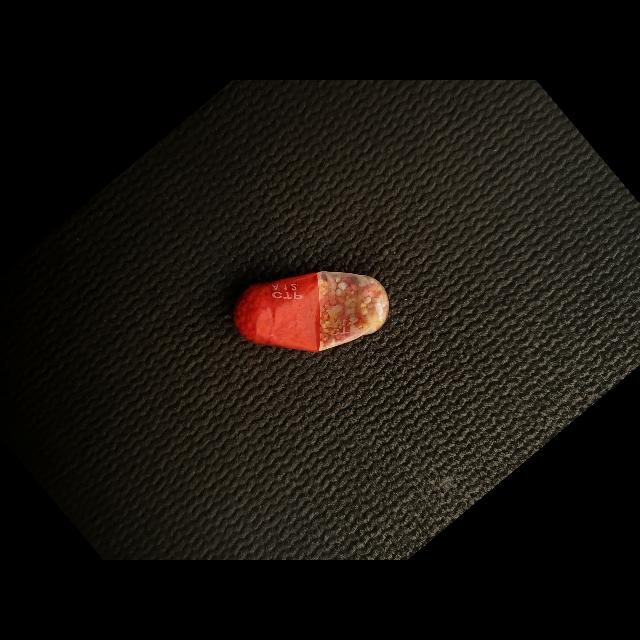Defective Capsule: (234, 271, 389, 353)
